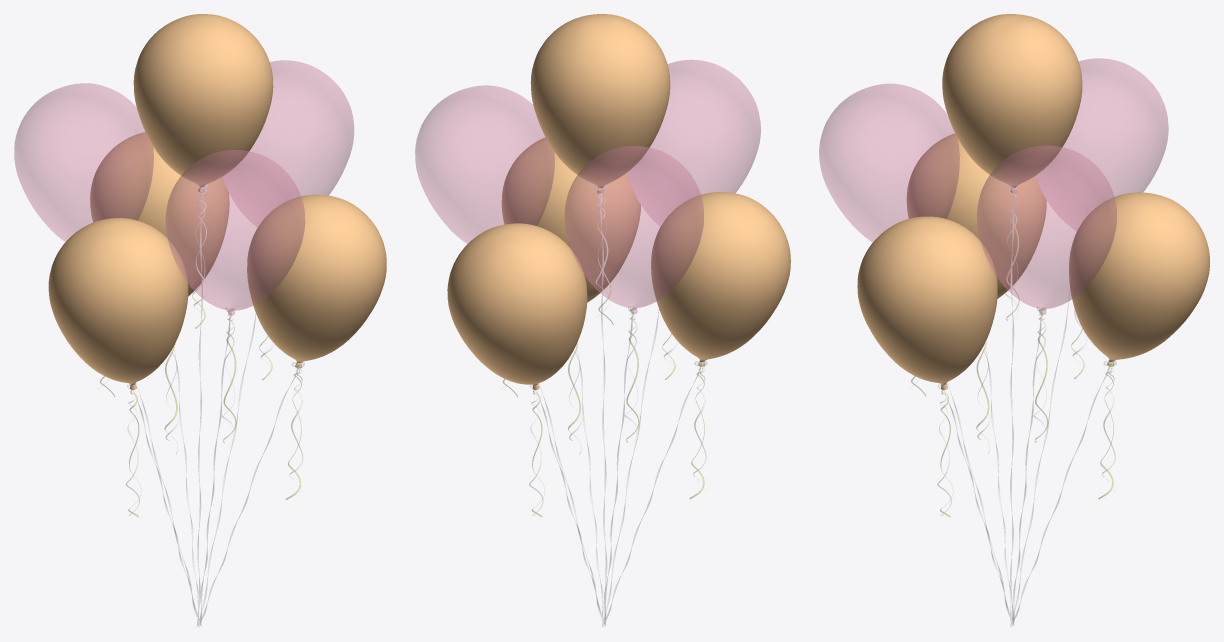
File: balloon1.1.glb
3 renders of one model, left to right at view 1: azimuth 30°, elevation 25°; view 2: azimuth 150°, elevation 25°; view 3: azimuth 270°, elevation 25°, orthographic.
Visible parts, largest first — view 1: 13499_Balloon_Cluster_v1_L2; view 2: 13499_Balloon_Cluster_v1_L2; view 3: 13499_Balloon_Cluster_v1_L2.
Part boxes in pixels (x1,y1,x2,y2): 13499_Balloon_Cluster_v1_L2: [14, 14, 386, 626]; 13499_Balloon_Cluster_v1_L2: [415, 14, 790, 626]; 13499_Balloon_Cluster_v1_L2: [819, 14, 1209, 626].
Size of the model in its own units: 7.54 by 13.57 by 7.9.
Materials: 3 (3 with a texture image).
